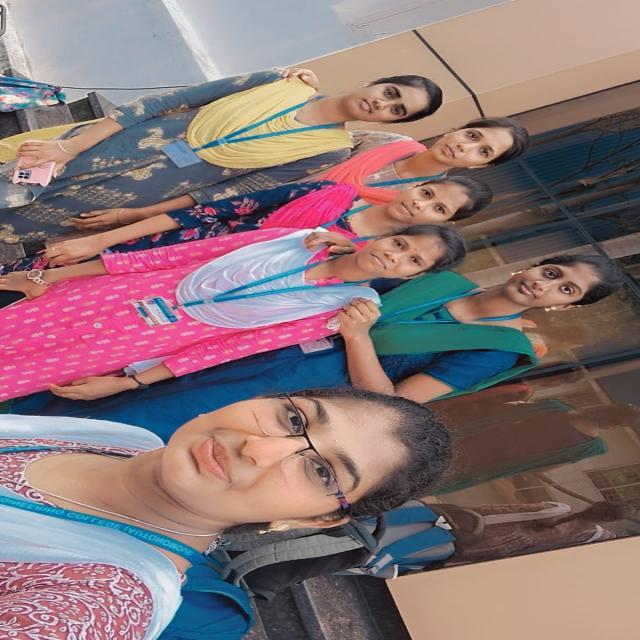id_card: (144, 91, 350, 183), (127, 252, 346, 332)
